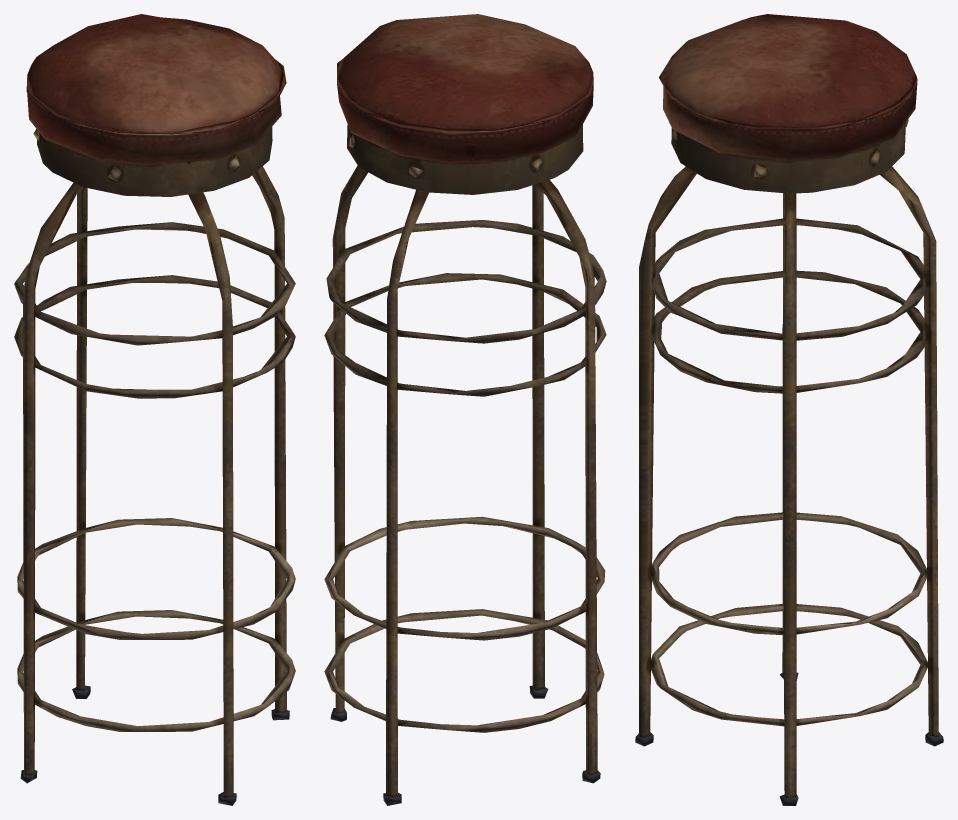
The model's file is metal_stool_01.glb.
The picture shows the model from 3 angles, left to right: view 1: azimuth 30°, elevation 25°; view 2: azimuth 150°, elevation 25°; view 3: azimuth 270°, elevation 25°; orthographic projection.
Visible parts, largest first — view 1: metal_stool_01; view 2: metal_stool_01; view 3: metal_stool_01.
Boxes of the visible parts, box(x1,y1,x2,y2) form: metal_stool_01: box(14, 14, 295, 805); metal_stool_01: box(324, 14, 606, 805); metal_stool_01: box(635, 14, 943, 805).
Bounding box in the file's own units: 0.3505 × 0.8796 × 0.3538.
1 material, 1 textured.
